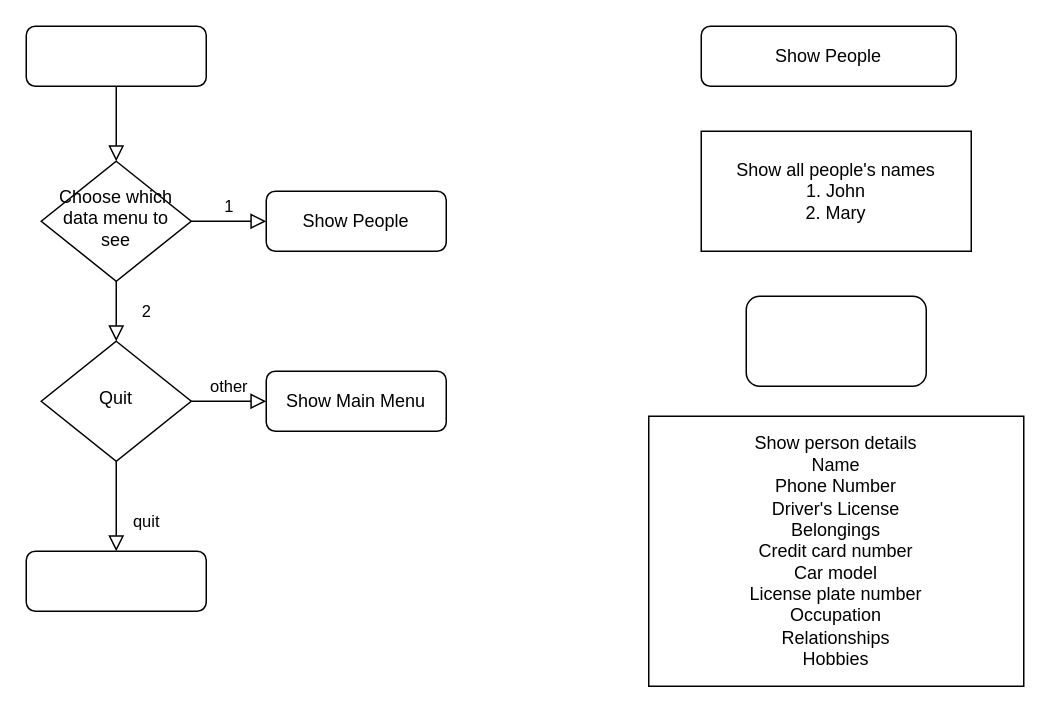
Image size: 1050x713. Some labels were removed from this diagram. The box of each missing label's shape, as (x1, y1, x2, y2) in pixels:
Main Menu: (25, 25, 206, 86)
Program exits: (25, 550, 206, 611)
Select person by number: (745, 295, 926, 386)
